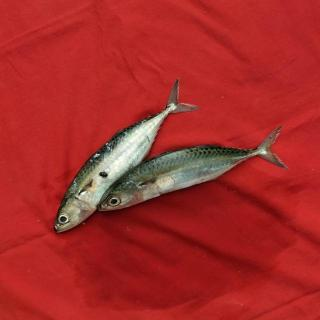Ikan: (48, 71, 294, 258)
